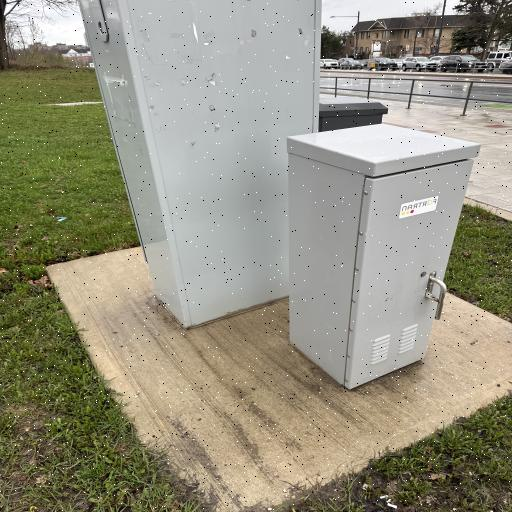Electrical Box: (76, 0, 320, 328), (284, 96, 480, 388)
